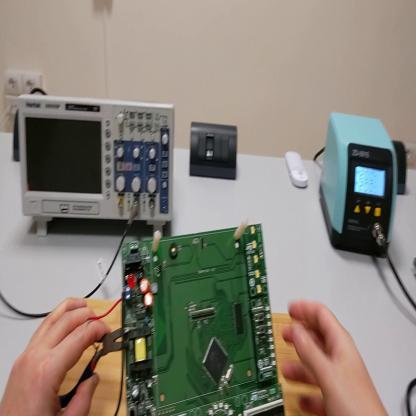hand: (2, 299, 112, 416), (282, 303, 383, 415)
low voltage board: (90, 218, 289, 416)
oscilloscope: (20, 94, 174, 239)
pliers: (60, 328, 131, 409)
socket: (394, 142, 408, 197), (15, 109, 19, 161)
welder station: (321, 115, 397, 258)
working area: (61, 300, 328, 416)
